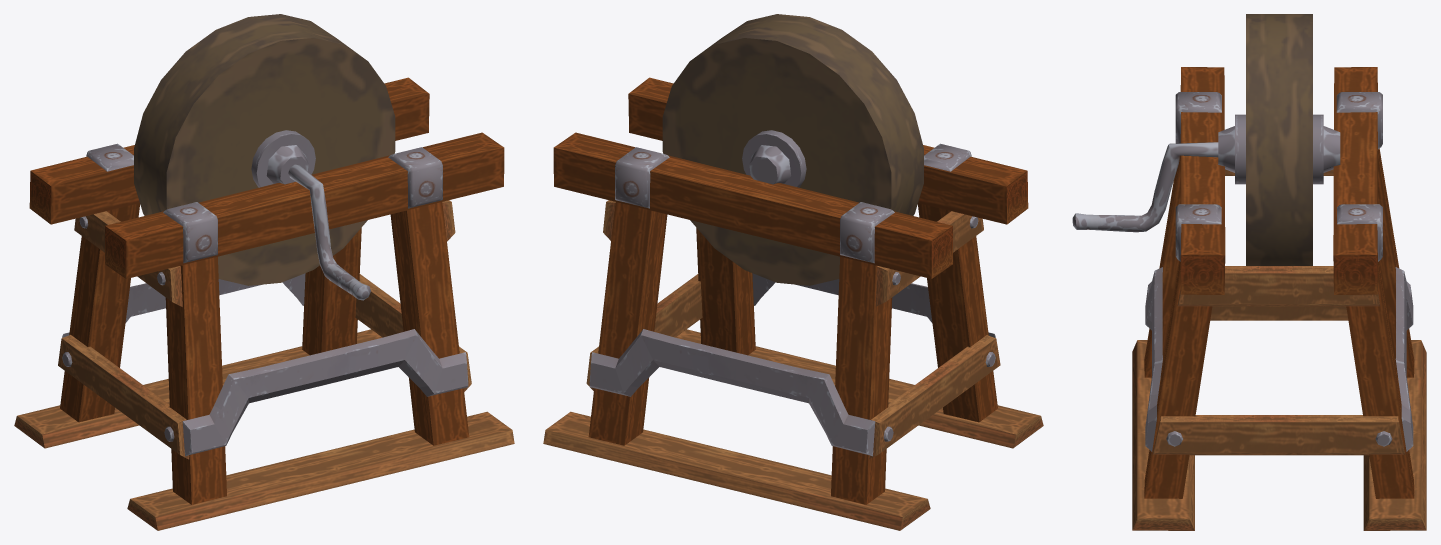
File: Whetstone.gltf
3 views of the same model, side by side, from view 1: azimuth 30°, elevation 25°; view 2: azimuth 150°, elevation 25°; view 3: azimuth 270°, elevation 25° (orthographic). The views are drawn at different scales.
Parts seen in each view (by area): view 1: Whetstone; view 2: Whetstone; view 3: Whetstone.
Part boxes in pixels (left/top/right/bottom): Whetstone: left=14, top=14, right=514, bottom=530; Whetstone: left=543, top=14, right=1043, bottom=530; Whetstone: left=1072, top=14, right=1426, bottom=530.
Size of the model in its own units: 1.14 by 1.17 by 0.9018.
3 materials, 3 textured.
